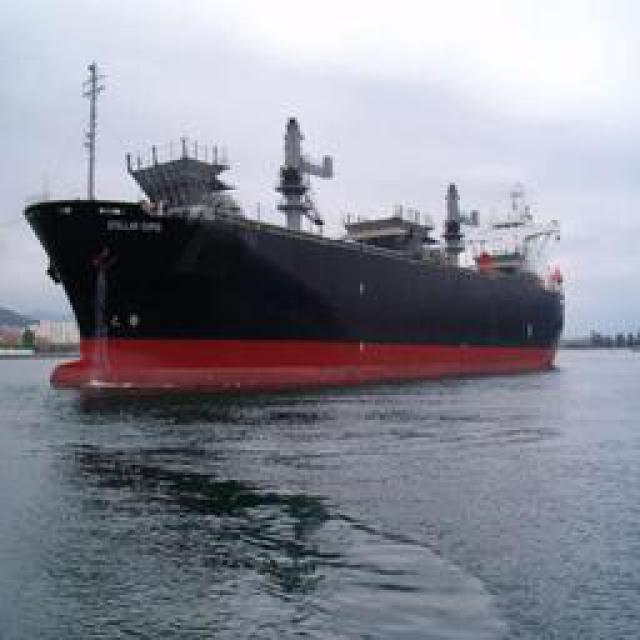Ship: (29, 185, 574, 400)
